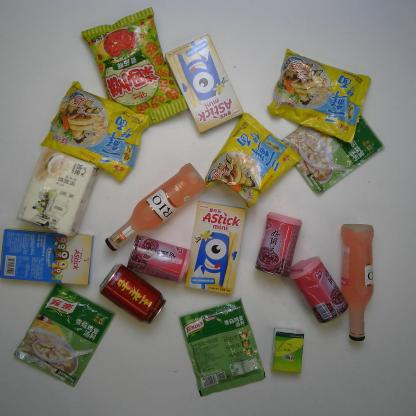Alcohol: (102, 159, 210, 253), (336, 219, 376, 344)
Canned Food: (288, 254, 351, 326), (253, 209, 306, 280), (126, 232, 193, 285)
Dessert: (159, 30, 247, 137), (184, 197, 249, 296), (0, 226, 97, 287)
Drink: (98, 260, 168, 326)
Instant Noodles: (37, 77, 155, 184), (264, 44, 374, 146), (201, 110, 304, 212)
Puffed Food: (78, 5, 191, 136)
Seasoner: (11, 279, 118, 389), (276, 105, 388, 195), (173, 295, 269, 399)
Tissue: (14, 143, 101, 240), (267, 323, 307, 377)
